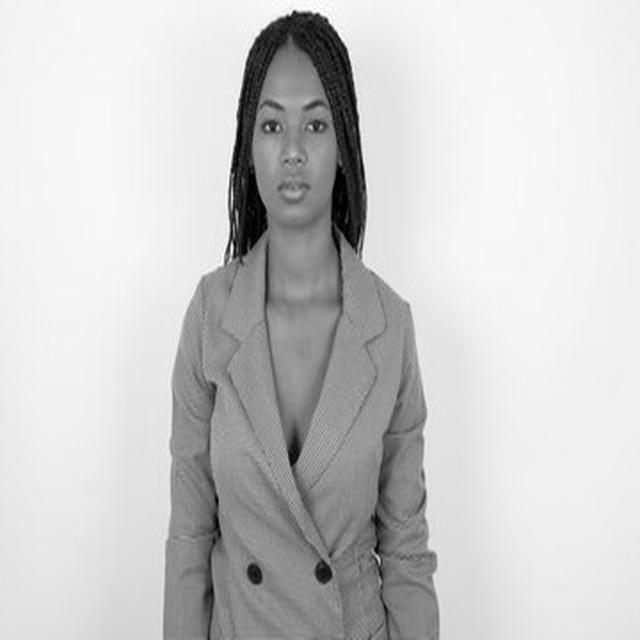Neutral: (253, 47, 336, 227)
